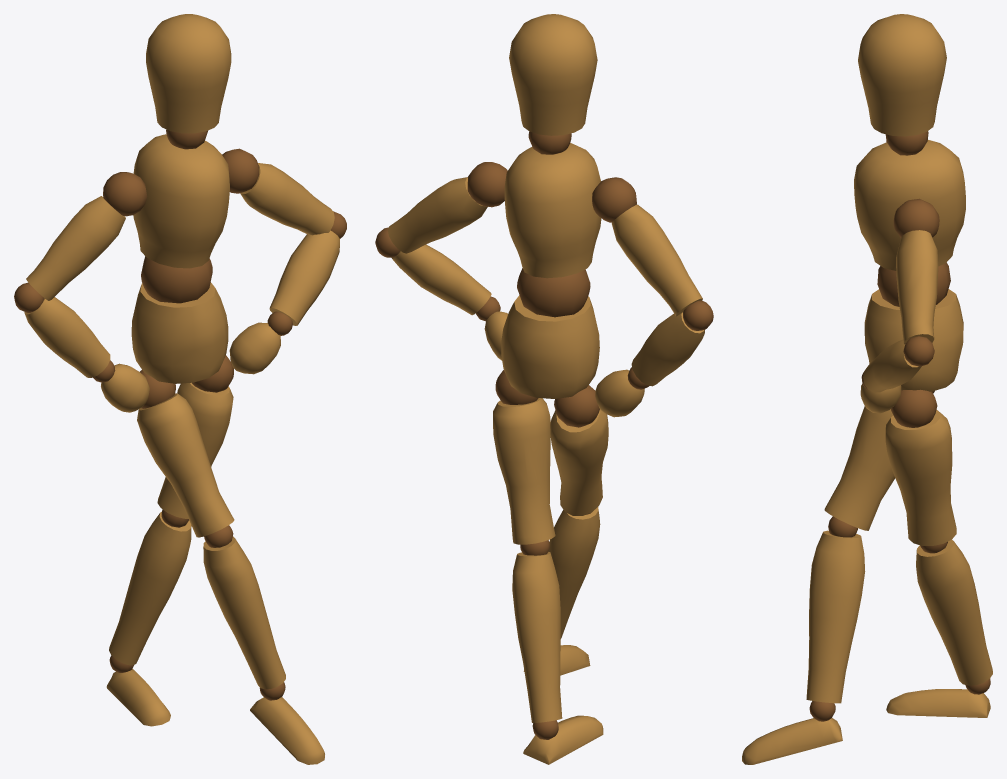
Rendered from 3D maniqui.dae.
3 renders of one model, left to right at view 1: azimuth 30°, elevation 25°; view 2: azimuth 150°, elevation 25°; view 3: azimuth 270°, elevation 25°, orthographic. The views are drawn at different scales.
Parts seen in each view (by area): view 1: Body; view 2: Body; view 3: Body.
Part boxes in pixels (<box>): Body: <box>14,14,346,764</box>; Body: <box>375,14,713,764</box>; Body: <box>742,14,992,764</box>.
Size of the model in its own units: 0.8446 by 0.5453 by 1.72.
